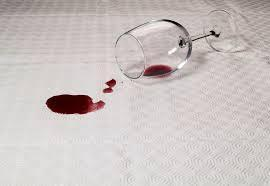oil: (38, 85, 118, 119), (101, 74, 116, 93)
